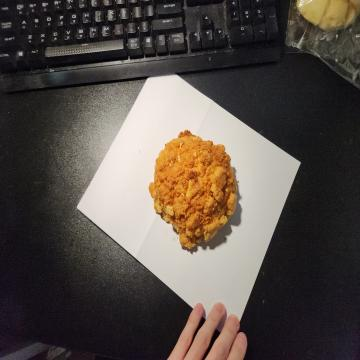soboru_bread: (146, 130, 238, 254)
